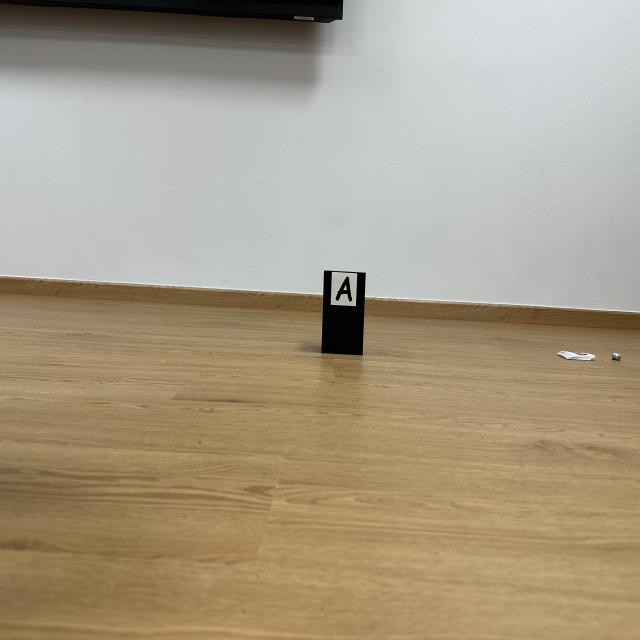A: (336, 277, 352, 302)
